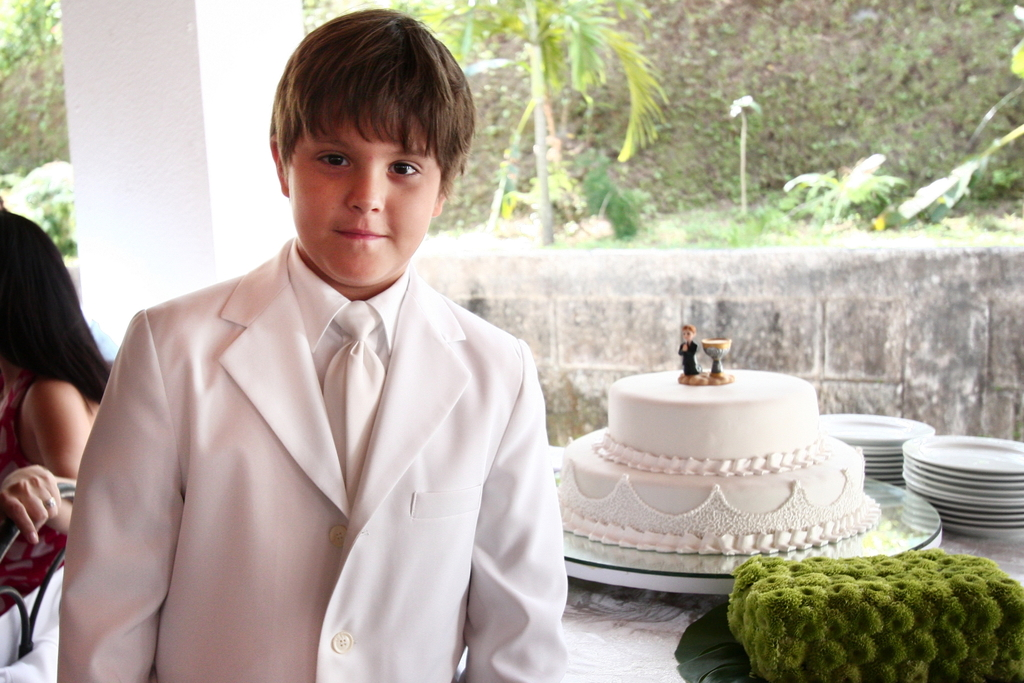cake: (552, 324, 881, 559)
